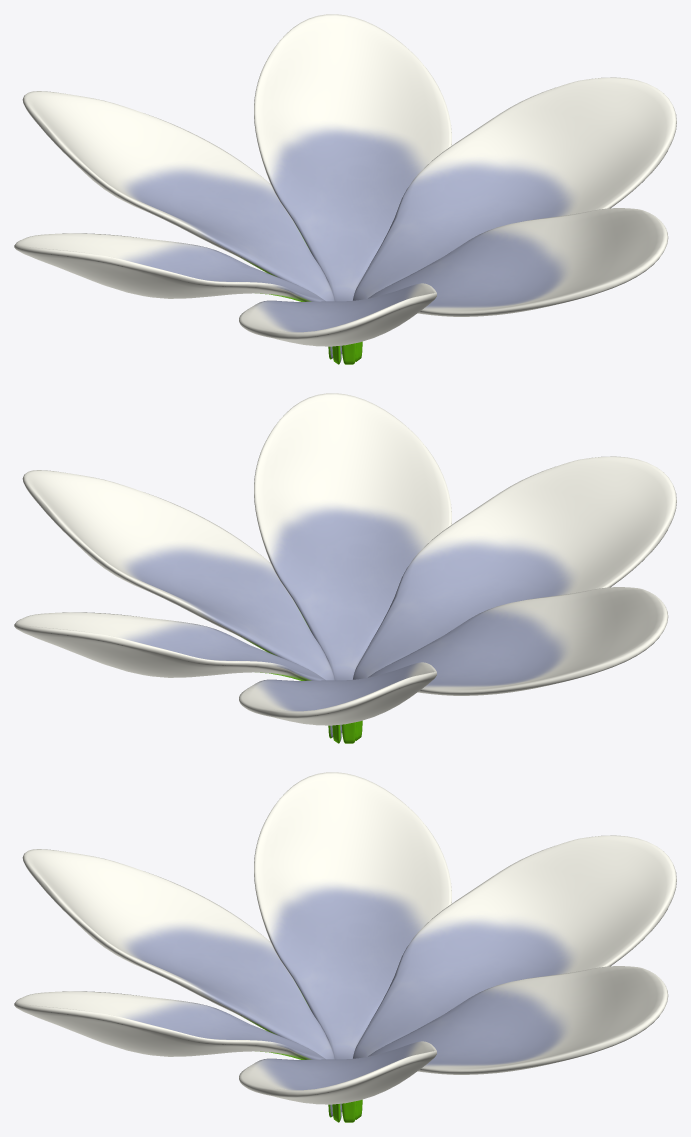
Rendered from flower.glb.
3 renders of one model, top to bottom at view 1: azimuth 30°, elevation 25°; view 2: azimuth 150°, elevation 25°; view 3: azimuth 270°, elevation 25°, orthographic.
Visible parts, largest first — view 1: Circle; view 2: Circle; view 3: Circle.
Part boxes in pixels (x1=…): Circle: x1=14, y1=14, x2=676, y2=364; Circle: x1=14, y1=393, x2=676, y2=743; Circle: x1=14, y1=772, x2=676, y2=1122.
Size of the model in its own units: 2.01 by 0.5843 by 1.8.
Materials: 1 (1 with a texture image).
